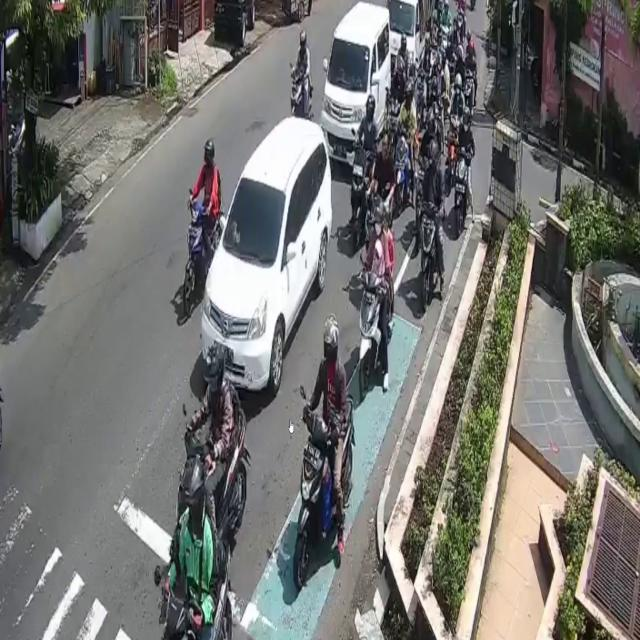bus: (294, 392, 354, 594), (183, 409, 246, 531), (184, 198, 224, 316), (357, 270, 381, 397), (418, 200, 438, 312), (456, 141, 469, 235), (289, 68, 311, 116)
motorcycle: (201, 115, 332, 394), (322, 1, 390, 167), (386, 0, 428, 63)
